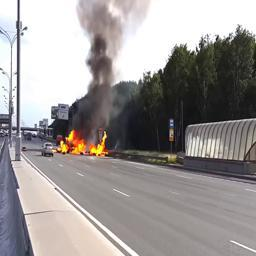fire: (61, 130, 108, 156)
